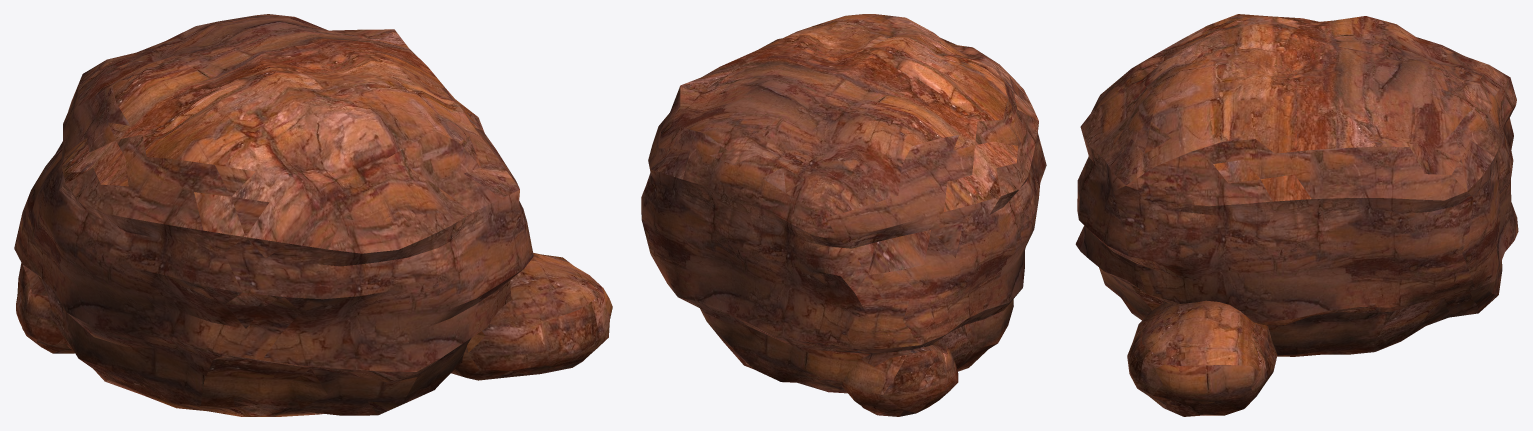
File: boulder_01.glb
3 views of the same model, side by side, from view 1: azimuth 30°, elevation 25°; view 2: azimuth 150°, elevation 25°; view 3: azimuth 270°, elevation 25° (orthographic). The views are drawn at different scales.
Parts seen in each view (by area): view 1: boulder_01; view 2: boulder_01; view 3: boulder_01.
Boxes of the visible parts, bbox=[...] form: boulder_01: bbox=[14, 14, 612, 416]; boulder_01: bbox=[641, 14, 1046, 416]; boulder_01: bbox=[1075, 14, 1518, 416].
Bounding box in the file's own units: 3.44 × 2.18 × 3.17.
Materials: 1 (1 with a texture image).
